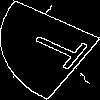T: (25, 25, 100, 76)
